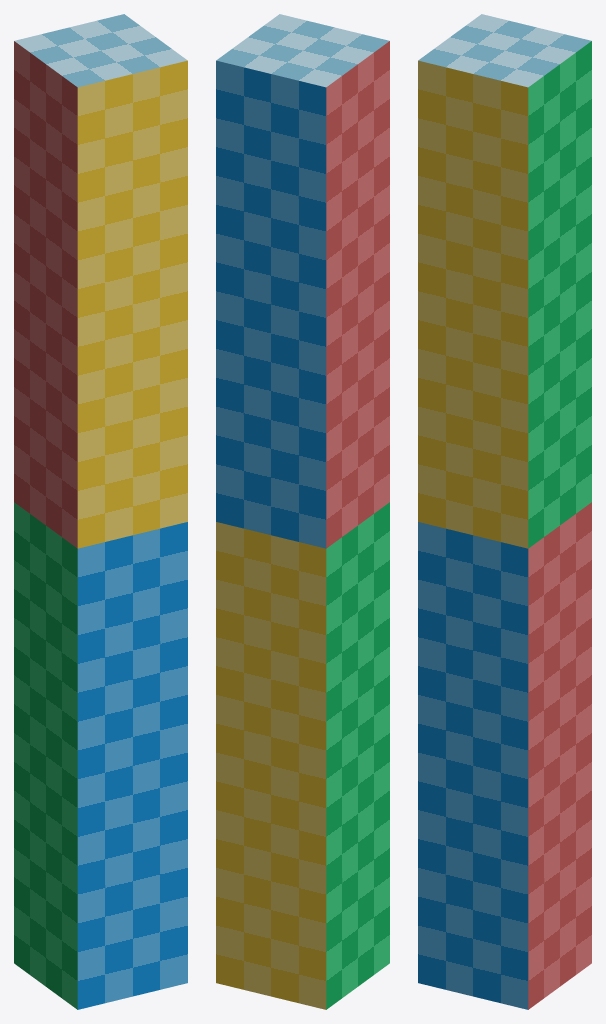
The picture shows the model from 3 angles, left to right: view 1: azimuth 30°, elevation 25°; view 2: azimuth 150°, elevation 25°; view 3: azimuth 330°, elevation 25°; orthographic projection.
Visible parts, largest first — view 1: arm2, arm1; view 2: arm2, arm1; view 3: arm2, arm1.
Part boxes in pixels (<box>): arm2: <box>14,14,187,548</box>; arm1: <box>14,502,187,1009</box>; arm2: <box>216,14,389,548</box>; arm1: <box>216,502,389,1009</box>; arm2: <box>418,14,591,548</box>; arm1: <box>418,502,591,1009</box>.
Size of the model in its own units: 0.125 by 1 by 0.125.
